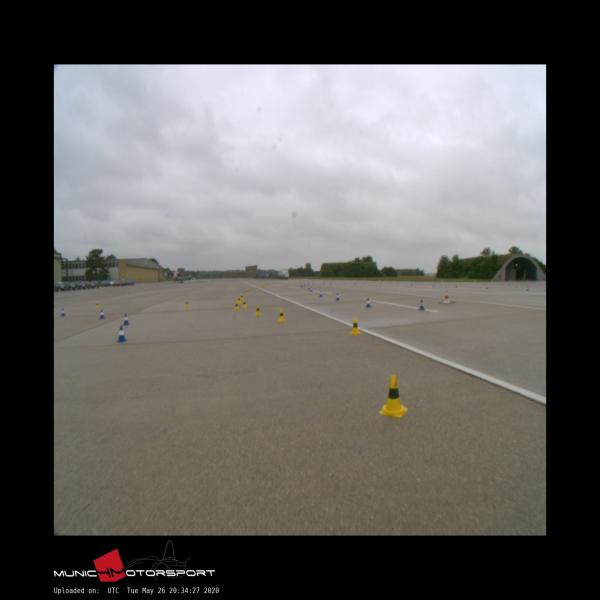blue_cone: (117, 326, 126, 340), (122, 314, 129, 326), (419, 299, 425, 309), (99, 310, 105, 318), (366, 298, 371, 307), (61, 308, 66, 316), (336, 293, 340, 300), (319, 290, 323, 297)
yellow_cone: (380, 376, 408, 416), (349, 317, 361, 334), (278, 310, 286, 322), (254, 305, 261, 315), (234, 301, 239, 310), (242, 300, 247, 308), (185, 299, 189, 307), (96, 301, 100, 308), (237, 296, 241, 303), (240, 294, 244, 300)
